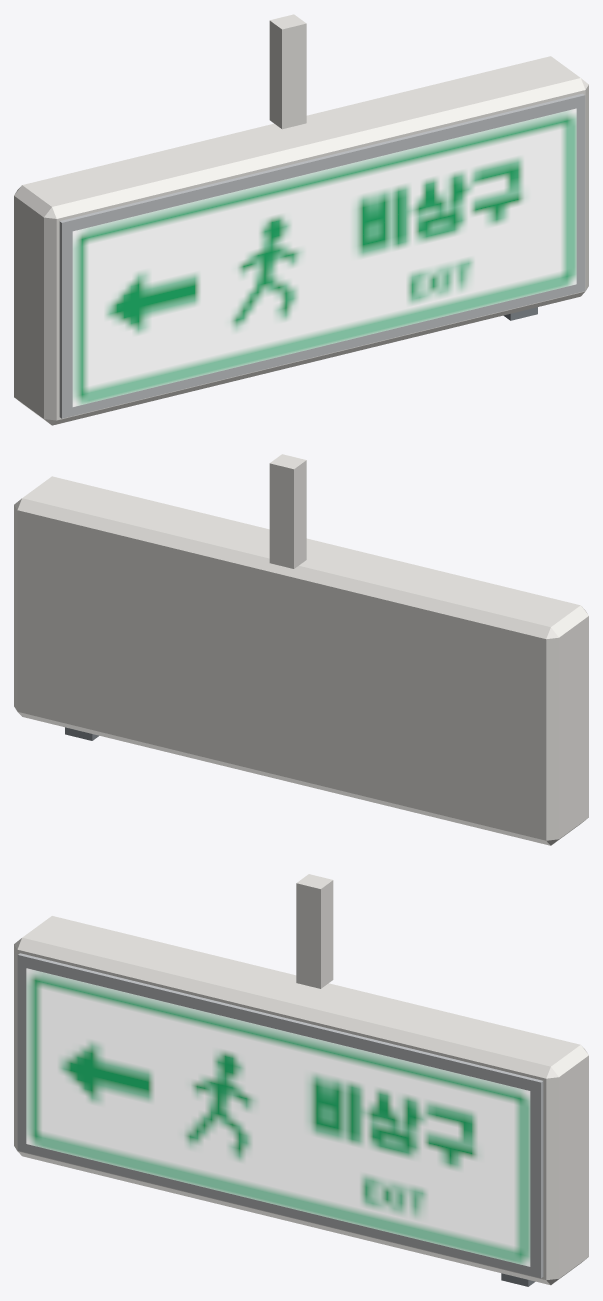
Rendered from SC_Fix_Exit_Sign_Arrow.gltf.
3 views of the same model, one above another, from view 1: azimuth 30°, elevation 25°; view 2: azimuth 150°, elevation 25°; view 3: azimuth 330°, elevation 25° (orthographic).
Parts seen in each view (by area): view 1: SC_Fix_Exit_Sign_Arrow; view 2: SC_Fix_Exit_Sign_Arrow; view 3: SC_Fix_Exit_Sign_Arrow.
Boxes of the visible parts, x1=… form: SC_Fix_Exit_Sign_Arrow: x1=14, y1=14, x2=588, y2=425; SC_Fix_Exit_Sign_Arrow: x1=14, y1=454, x2=588, y2=845; SC_Fix_Exit_Sign_Arrow: x1=14, y1=874, x2=588, y2=1286.
Bounding box in the file's own units: 0.4 × 0.2353 × 0.0545.
3 materials, 3 textured.
